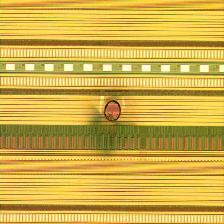COATING BAD: (98, 99, 126, 127)
